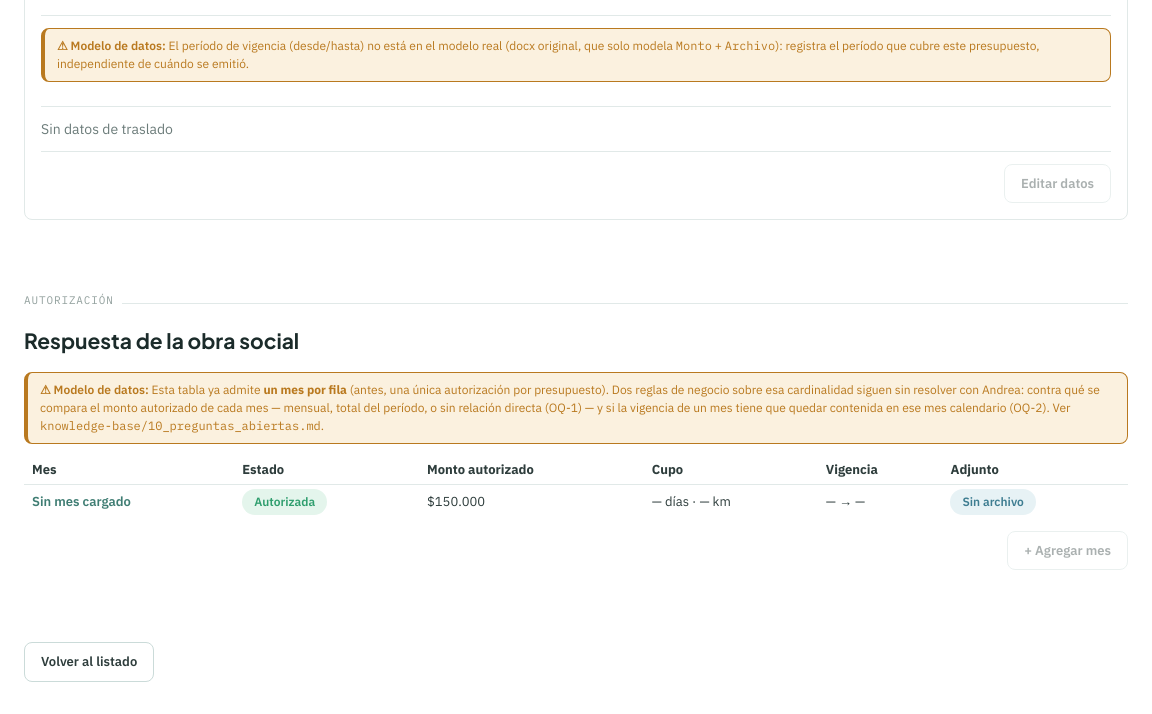
Test: PresupuestoDetail — gateo de escritura de la entrada a autorización › sin permiso de escritura: la fila sigue siendo clickeable (D10) pero los campos del form quedan deshabilitados
(page scrolled)
Expected: the text "Autorizada" is shown, [242, 488, 327, 514]
Expected: the button "+ Agregar mes" is disabled, [1007, 530, 1128, 570]
Click the button "Sin mes cargado" at (81, 502), box [32, 492, 131, 511]
(page scrolled)
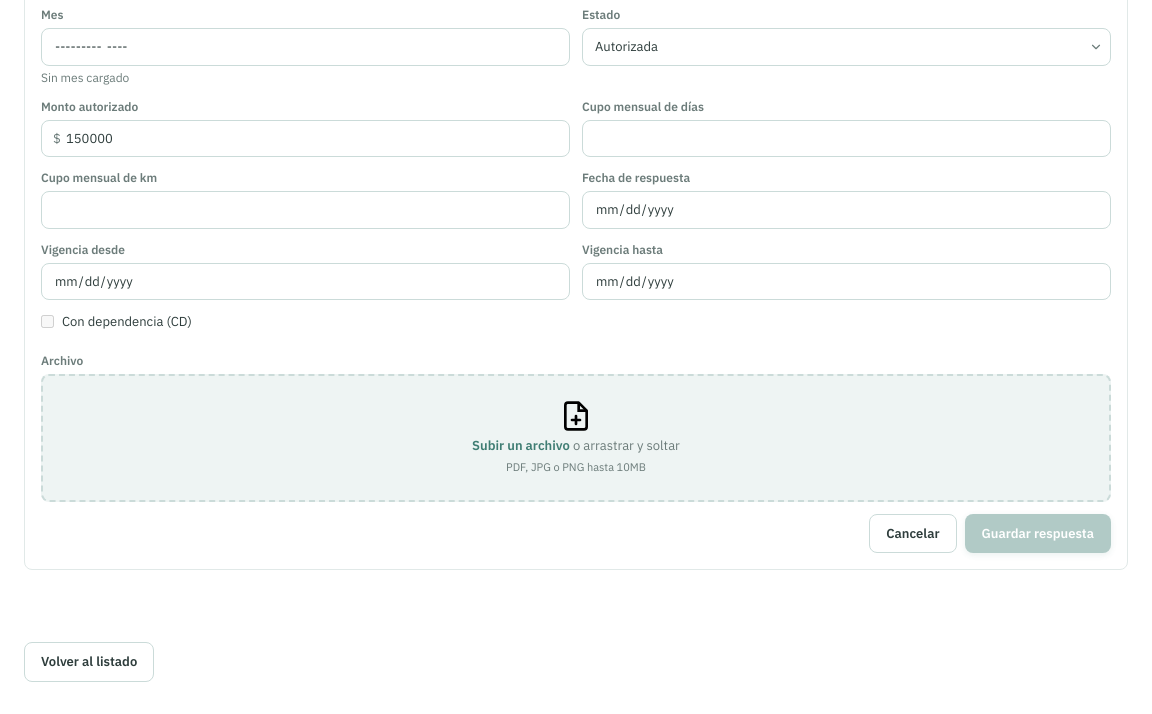
Result: the dropdown labelled "Estado" is disabled at [582, 28, 1111, 66]
Result: the button "Guardar respuesta" is disabled at [964, 514, 1111, 553]
